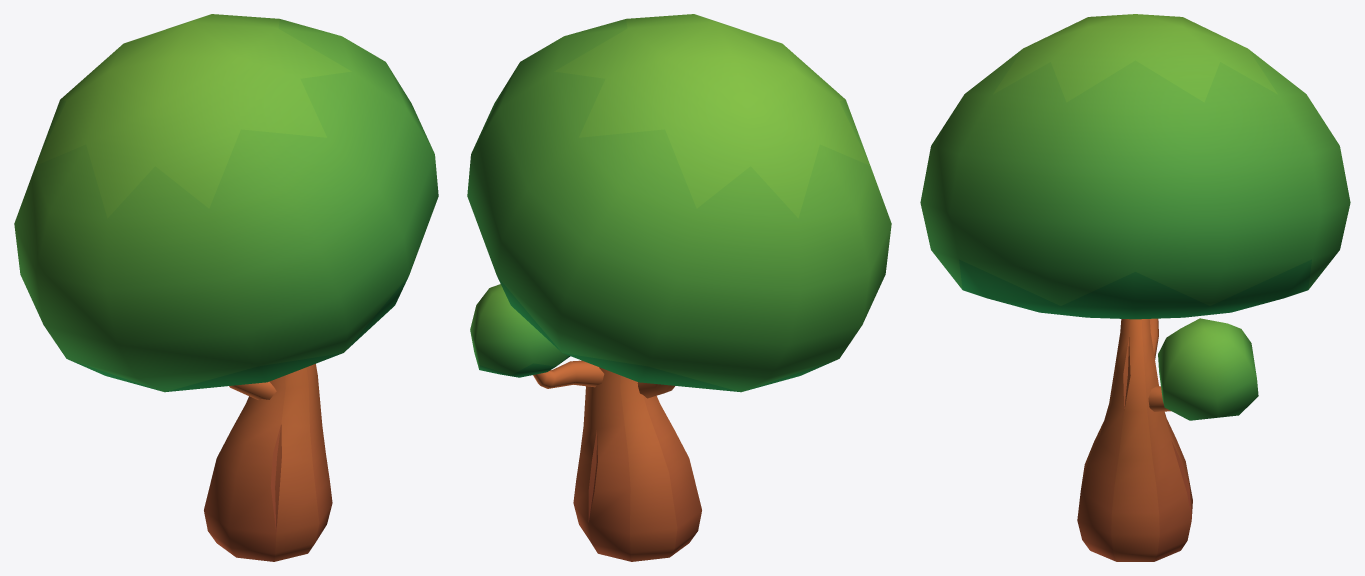
File: Tree_1_A_Color1.gltf
3 renders of one model, left to right at view 1: azimuth 30°, elevation 25°; view 2: azimuth 150°, elevation 25°; view 3: azimuth 270°, elevation 25°, orthographic. The views are drawn at different scales.
Visible parts, largest first — view 1: Tree_1_A_Color1; view 2: Tree_1_A_Color1; view 3: Tree_1_A_Color1.
Part boxes in pixels (x1=…): Tree_1_A_Color1: x1=14, y1=14, x2=438, y2=561; Tree_1_A_Color1: x1=467, y1=14, x2=891, y2=561; Tree_1_A_Color1: x1=920, y1=14, x2=1350, y2=561.
Size of the model in its own units: 3.18 by 4.16 by 3.25.
Materials: 1 (1 with a texture image).
